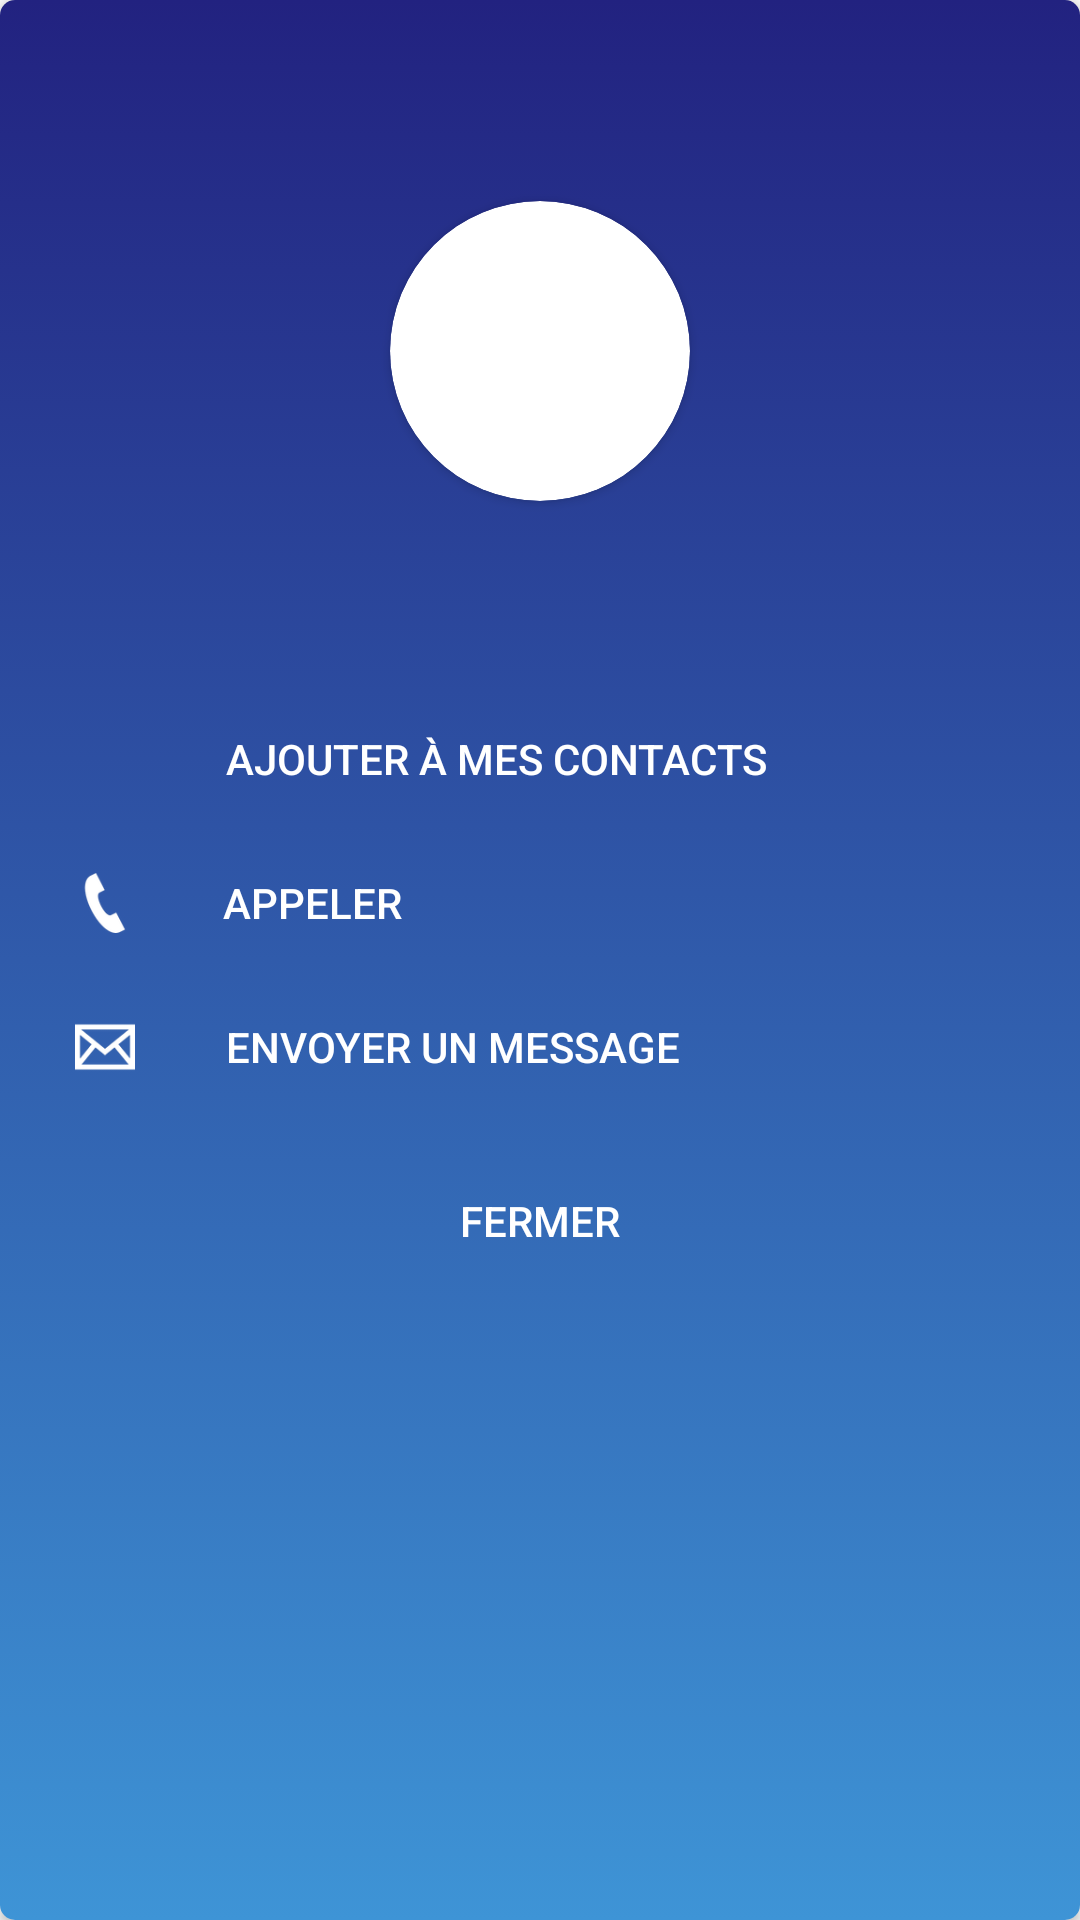

Named icons in this screenshot (1080 x 1920) and their bounding boxes, (x1, y1, x2, y2):
call: (84, 873, 125, 933)
